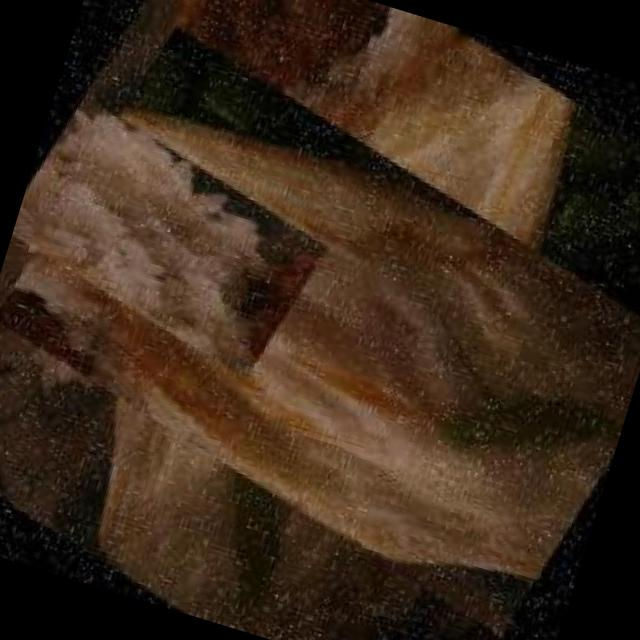fried_eggs: (0, 0, 640, 640)
rice: (0, 37, 330, 415)
